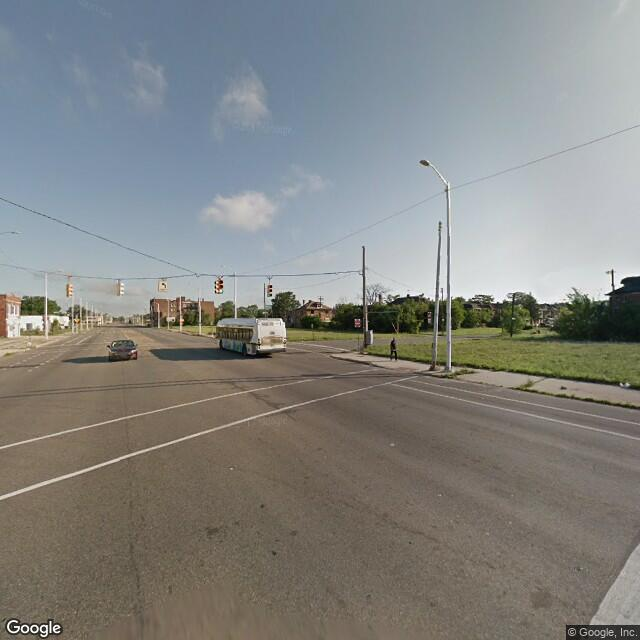litter: (619, 382, 632, 389)
